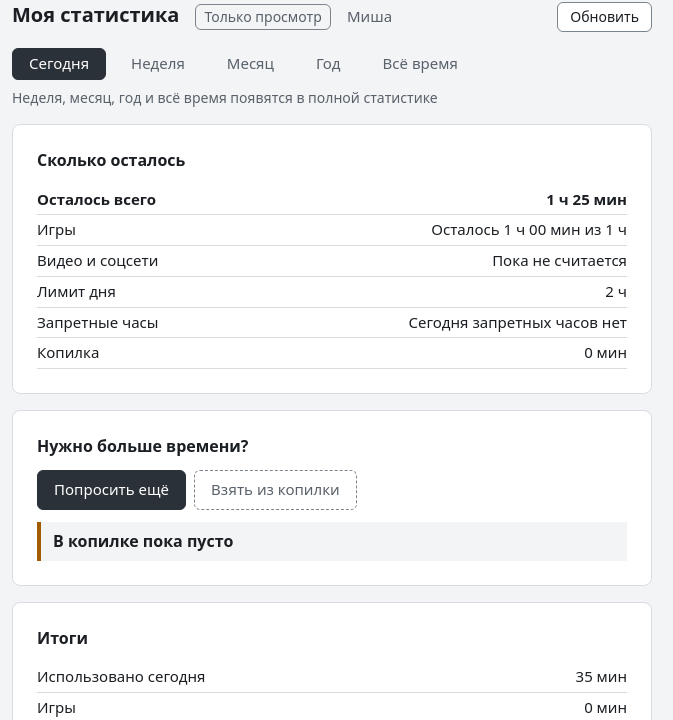
Test: MyStats: обновление и сбои › нет связи: простыми словами и «Обновить», кнопка повторяет запрос
The width and height of the screenshot is (673, 720).
Click the button "Обновить".
click(605, 17)  # box [557,2,652,32]
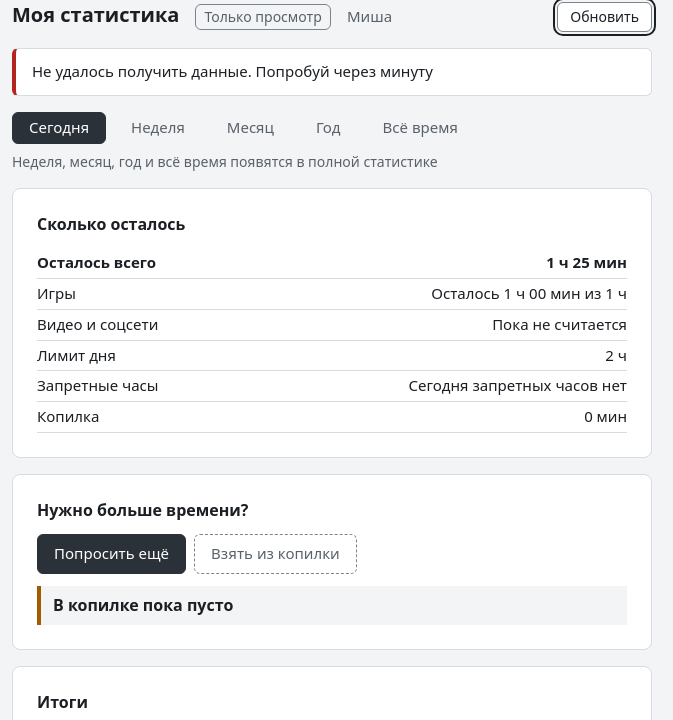
Check: the text "Не удалось получить данные. Попробуй через минуту" is shown, box [12,48,652,96]
Click the button "Обновить".
click(605, 17)  # box [557,2,652,32]
(page scrolled)
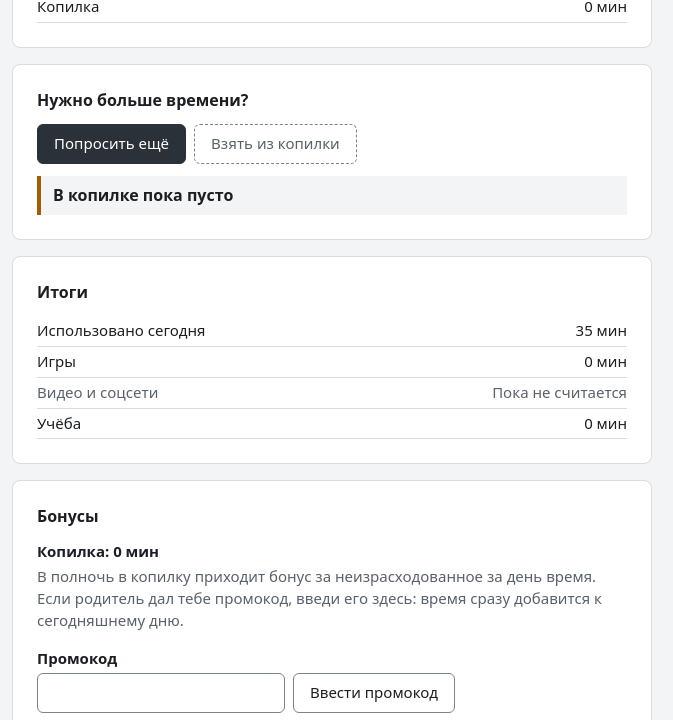
Check: the element "Итоги" is shown, box [12,256,652,464]
Check: the text "Не удалось получить данные. Попробуй через минуту" is gone
